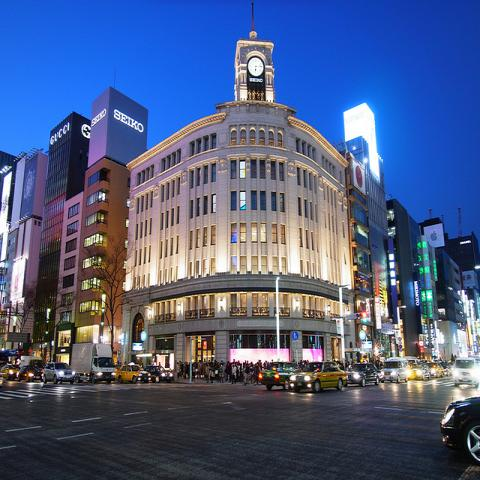car: (438, 396, 480, 469), (258, 362, 312, 392), (303, 364, 349, 390), (346, 364, 384, 388), (42, 361, 76, 384), (382, 358, 408, 384), (116, 364, 150, 381), (408, 362, 426, 380), (18, 366, 41, 380), (1, 365, 22, 380), (427, 361, 444, 378), (160, 368, 174, 381)
truck: (70, 344, 116, 384), (453, 357, 480, 388), (20, 356, 45, 372)
